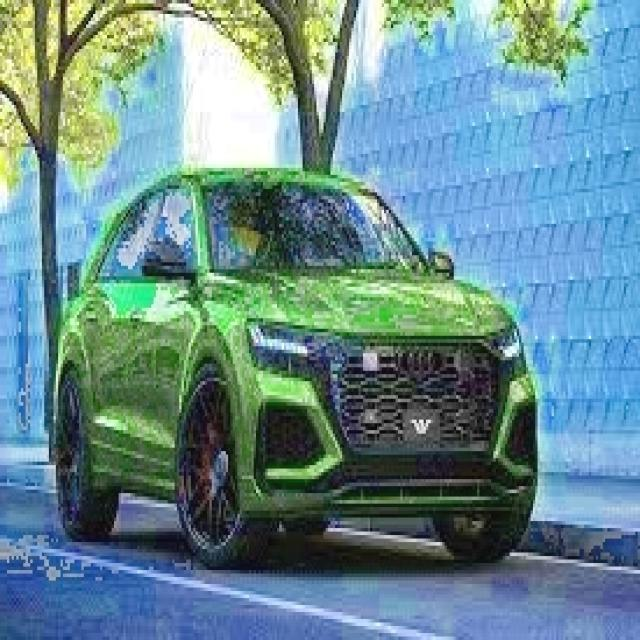green: (58, 164, 540, 570)
